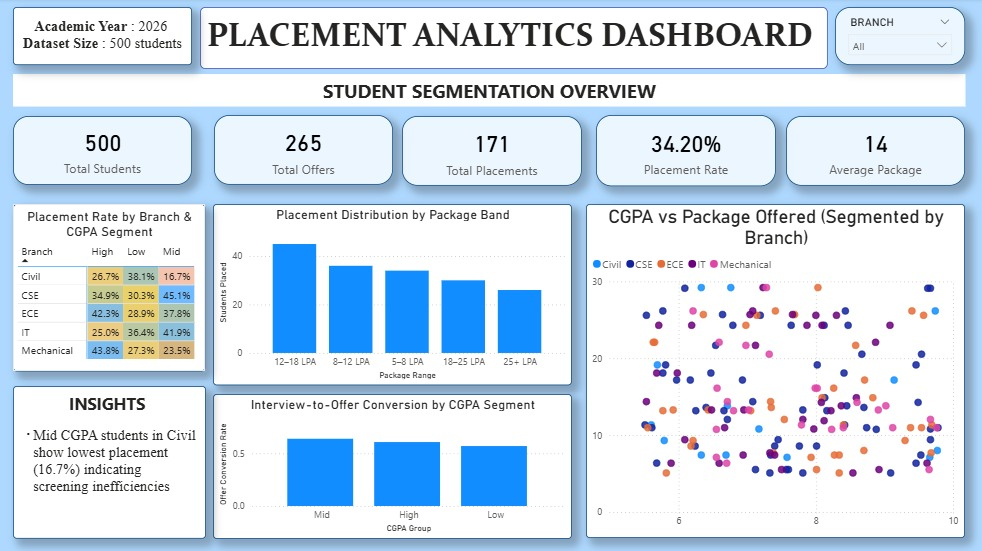

This screenshot's page, from the dashboard's own definition file:
{"tool":"powerbi","page":{"name":"Student Segmentation Overview","canvas":[1280,720],"ordinal":2},"visuals":[{"type":"card","fields":{"Values":["applications_cleaned.Total Applicants"]},"box":[21.7,151.8,231.3,89],"z":0},{"type":"card","fields":{"Values":["applications_cleaned.Total Offers"]},"box":[281.3,151,231,90.3],"z":1000},{"type":"card","fields":{"Values":["applications_cleaned.Students Placed"]},"box":[523.9,152.3,232.3,90.3],"z":2000},{"type":"textbox","box":[263.1,11.6,809.6,79.5],"z":3000},{"type":"textbox","box":[21.7,98.3,1228.9,41.9],"z":4000},{"type":"card","fields":{"Values":["applications_cleaned.Placement Rate"]},"box":[774.2,151,232.3,91.6],"z":5000},{"type":"slicer","fields":{"Values":["students_cleaned_scaled.branch"]},"box":[1082.9,11.6,167.7,75.2],"z":6000},{"type":"card","fields":{"Values":["applications_cleaned.Average Package"]},"box":[1019.3,151.8,231.3,89.6],"z":8000},{"type":"clusteredColumnChart","title":"Placement Distribution by Package Band","fields":{"Category":["offers_raw.Package Range"],"Y":["applications_cleaned.Students Placed"]},"box":[280.5,266,462.7,234.2],"z":9000},{"type":"scatterChart","title":"CGPA vs Package Offered (Segmented by Branch)","fields":{"X":["students_cleaned_scaled.cgpa"],"Y":["offers_raw.package_lpa"],"Series":["students_cleaned_scaled.branch"]},"box":[761.9,266,488.7,430.8],"z":10000},{"type":"pivotTable","title":"Placement Rate by Branch & CGPA Segment","fields":{"Rows":["students_cleaned_scaled.branch"],"Columns":["students_cleaned_scaled.CGPA Group"],"Values":["applications_cleaned.Placement Rate"]},"box":[22,265.6,247.7,216.1],"z":11000},{"type":"clusteredColumnChart","title":"Interview-to-Offer Conversion by CGPA Segment","fields":{"Category":["students_cleaned_scaled.CGPA Group"],"Y":["applications_cleaned.Offer Conversion Rate"]},"box":[280.5,510.4,462.7,186.5],"z":12000},{"type":"textbox","box":[21.7,500.2,248.7,196.6],"z":12001},{"type":"textbox","box":[21.7,11.6,231.3,75.2],"z":12002}]}

Visuals, with their boxes in screenshot pixels (x1, y1, x2, y2), scaled from the page's 1280x720 canvas onto the 982x551 screenshot:
card - applications_cleaned.Total Applicants: box=[17, 116, 194, 184]
card - applications_cleaned.Total Offers: box=[216, 116, 393, 185]
card - applications_cleaned.Students Placed: box=[402, 117, 580, 186]
textbox: box=[202, 9, 823, 70]
textbox: box=[17, 75, 959, 107]
card - applications_cleaned.Placement Rate: box=[594, 116, 772, 186]
slicer - students_cleaned_scaled.branch: box=[831, 9, 959, 66]
card - applications_cleaned.Average Package: box=[782, 116, 959, 185]
"Placement Distribution by Package Band" clusteredColumnChart: box=[215, 204, 570, 383]
"CGPA vs Package Offered (Segmented by Branch)" scatterChart: box=[585, 204, 959, 533]
"Placement Rate by Branch & CGPA Segment" pivotTable: box=[17, 203, 207, 369]
"Interview-to-Offer Conversion by CGPA Segment" clusteredColumnChart: box=[215, 391, 570, 533]
textbox: box=[17, 383, 207, 533]
textbox: box=[17, 9, 194, 66]
